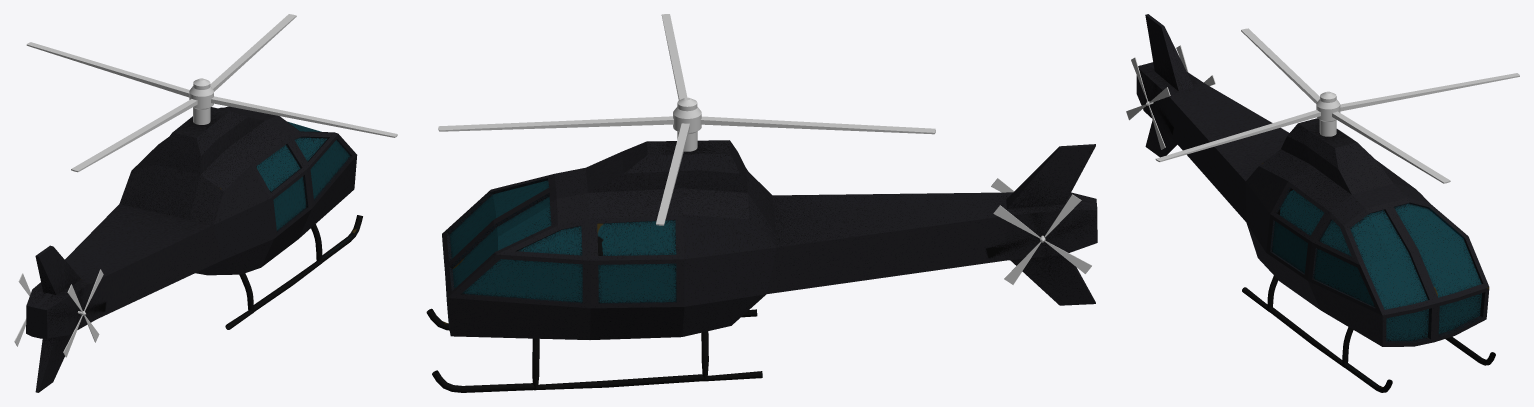
File: anim_000099.obj
3 views of the same model, side by side, from view 1: azimuth 30°, elevation 25°; view 2: azimuth 150°, elevation 25°; view 3: azimuth 270°, elevation 25° (orthographic). The views are drawn at different scales.
Visible parts, largest first — view 1: Helicopter.007_Cylinder.008, Helicopter.001_Cylinder.001, Helicopter.004_Cylinder.005; view 2: Helicopter.007_Cylinder.008, Helicopter.001_Cylinder.001, Helicopter.003_Cylinder.004; view 3: Helicopter.007_Cylinder.008, Helicopter.001_Cylinder.001, Helicopter.004_Cylinder.005.
Part boxes in pixels (x1,y1,x2,y2): Helicopter.007_Cylinder.008: (26,106,362,392); Helicopter.001_Cylinder.001: (26,14,397,172); Helicopter.004_Cylinder.005: (63,269,103,357); Helicopter.007_Cylinder.008: (426,140,1097,392); Helicopter.001_Cylinder.001: (438,14,935,225); Helicopter.003_Cylinder.004: (993,194,1091,284); Helicopter.007_Cylinder.008: (1136,14,1495,392); Helicopter.001_Cylinder.001: (1155,28,1519,183); Helicopter.004_Cylinder.005: (1126,57,1170,149).
Size of the model in its own units: 6.92 by 3.21 by 5.29.
